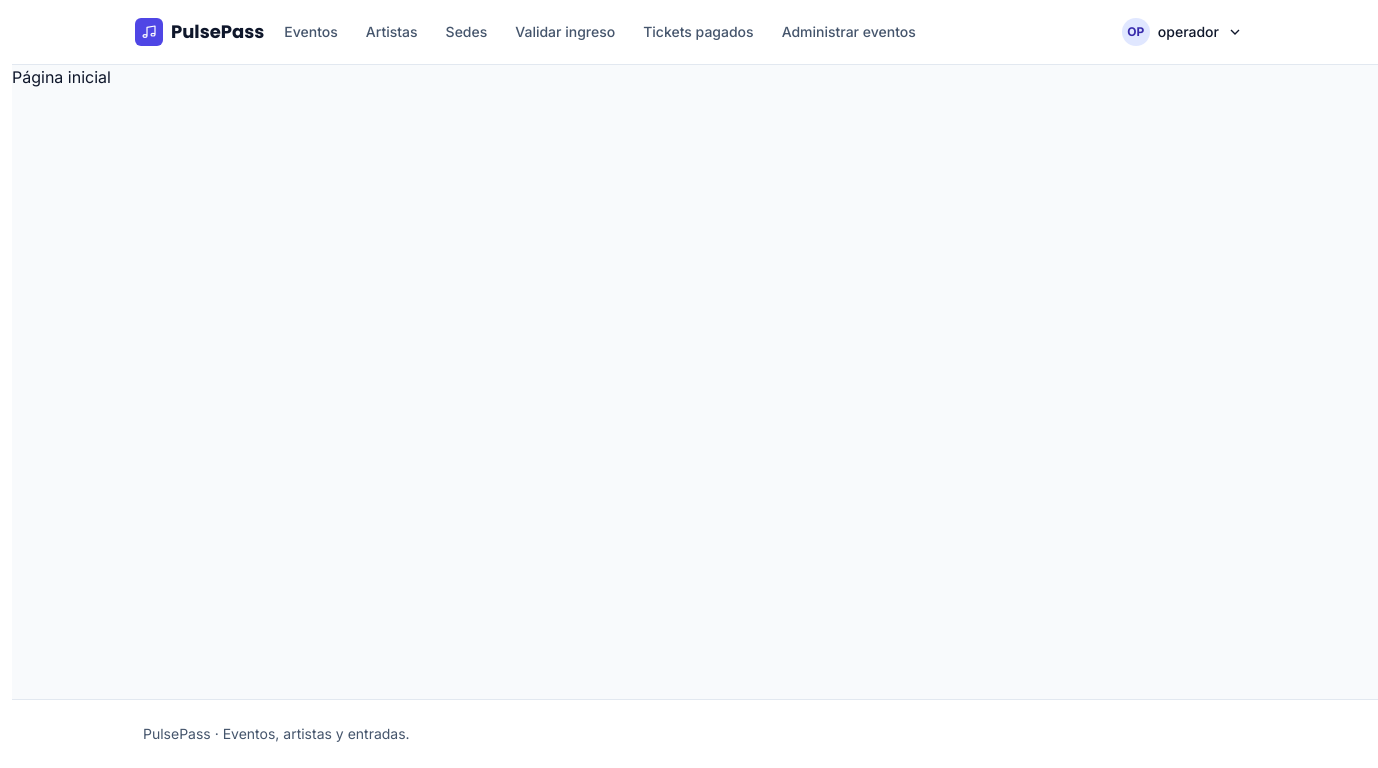
Test: Menú y acceso STAFF › permite navegar al módulo ADMIN desde el menú de ADMIN
The image size is (1378, 768).
Click the link "Administrar eventos" at (849, 32), box [782,23,916,40]
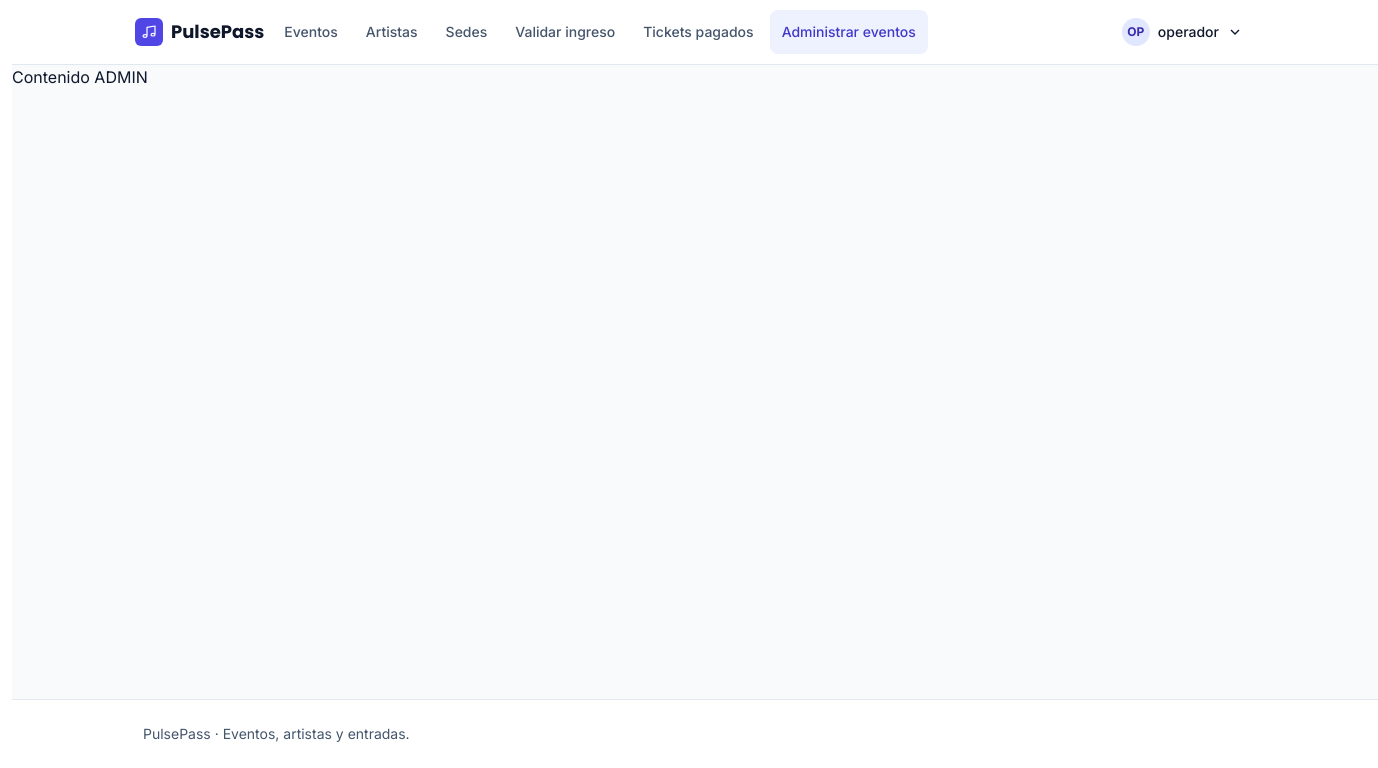
Expected: the heading "Contenido ADMIN" is shown, [12,67,148,87]
